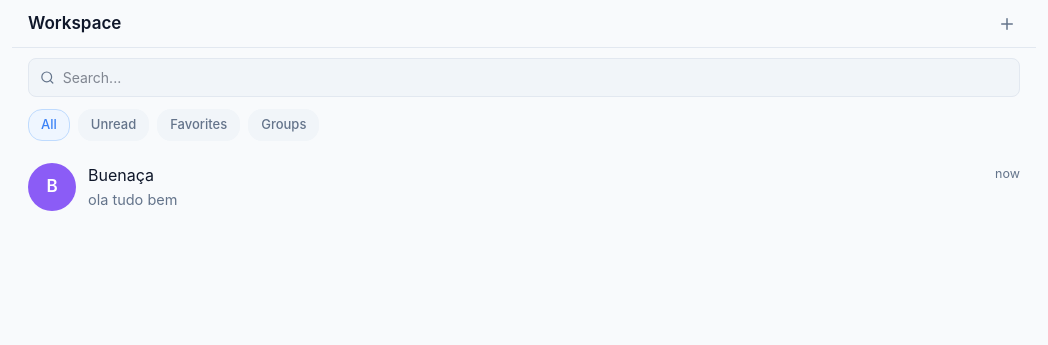
Test case: ConversationList contacts search › shows the contacts section only when searching
Expected: the text "Contacts" is not shown
In the field labelled "Search...": (535, 78) [63, 67, 1008, 88], type "ola"
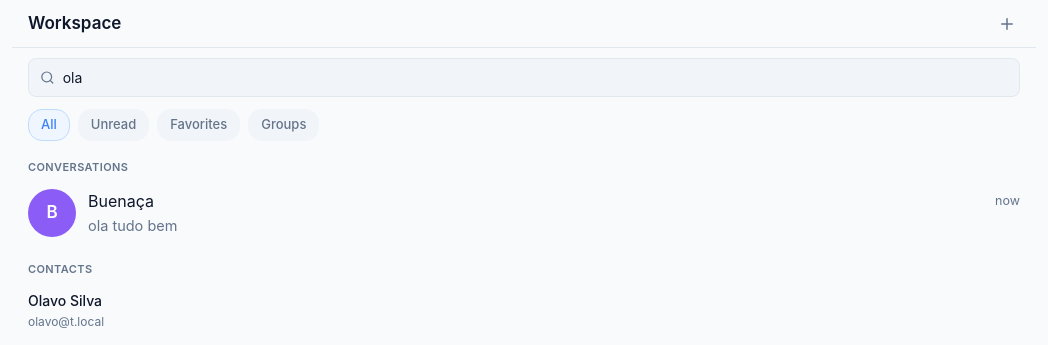
Result: the text "Contacts" is shown at [28, 262, 92, 276]
Result: the text "Olavo Silva" is shown at [28, 290, 102, 310]
